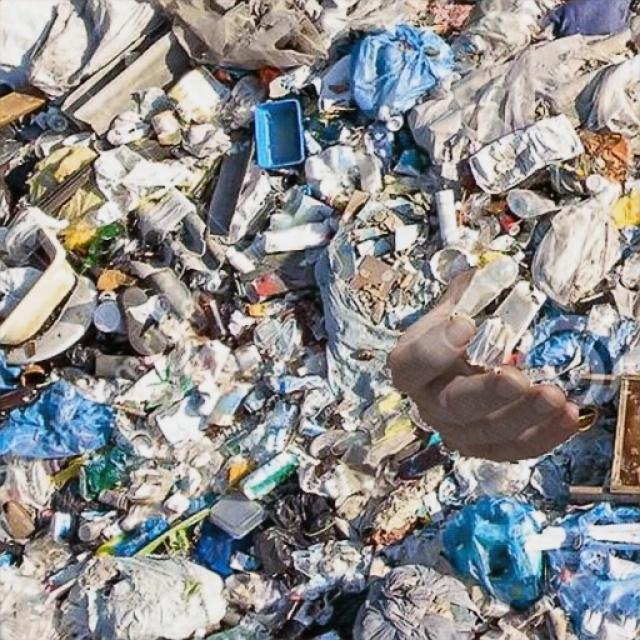Person in Rubble: (387, 266, 578, 462)
